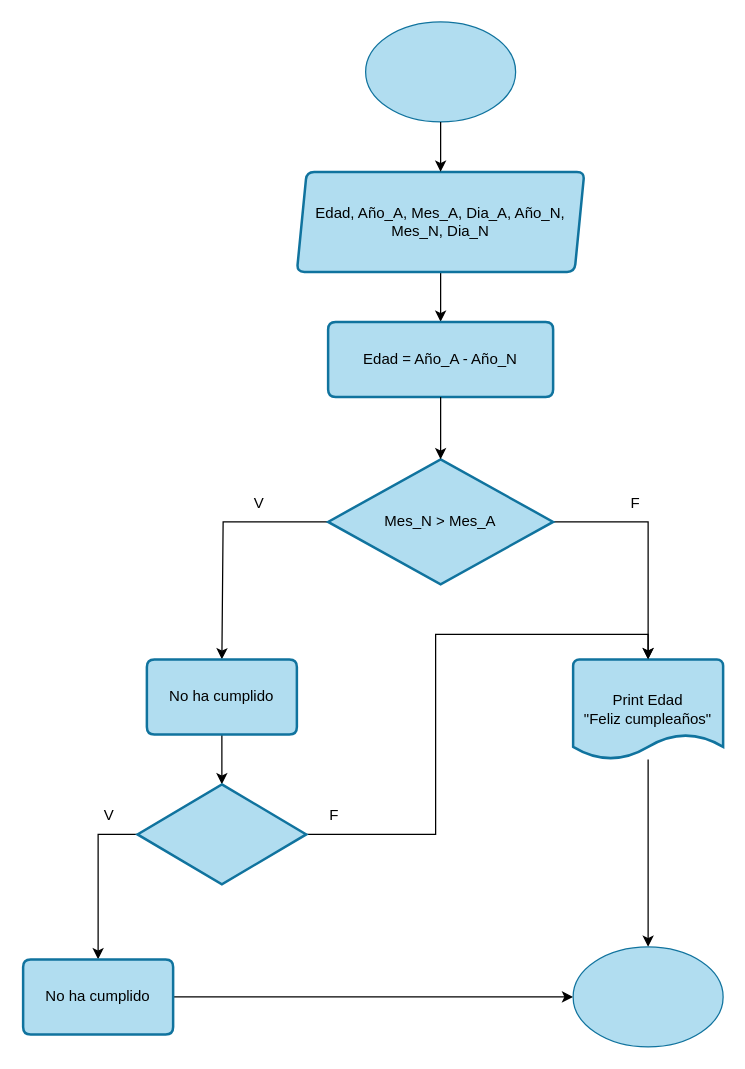
This 745x1069 diagram has some shape labels left out. Here are the shapes that lost their labels. From the top down, the box of each, then its label:
(364, 21, 516, 122): Inicio
(136, 782, 307, 885): Dia_N ≥ Dia_A
(572, 946, 723, 1047): Fin
